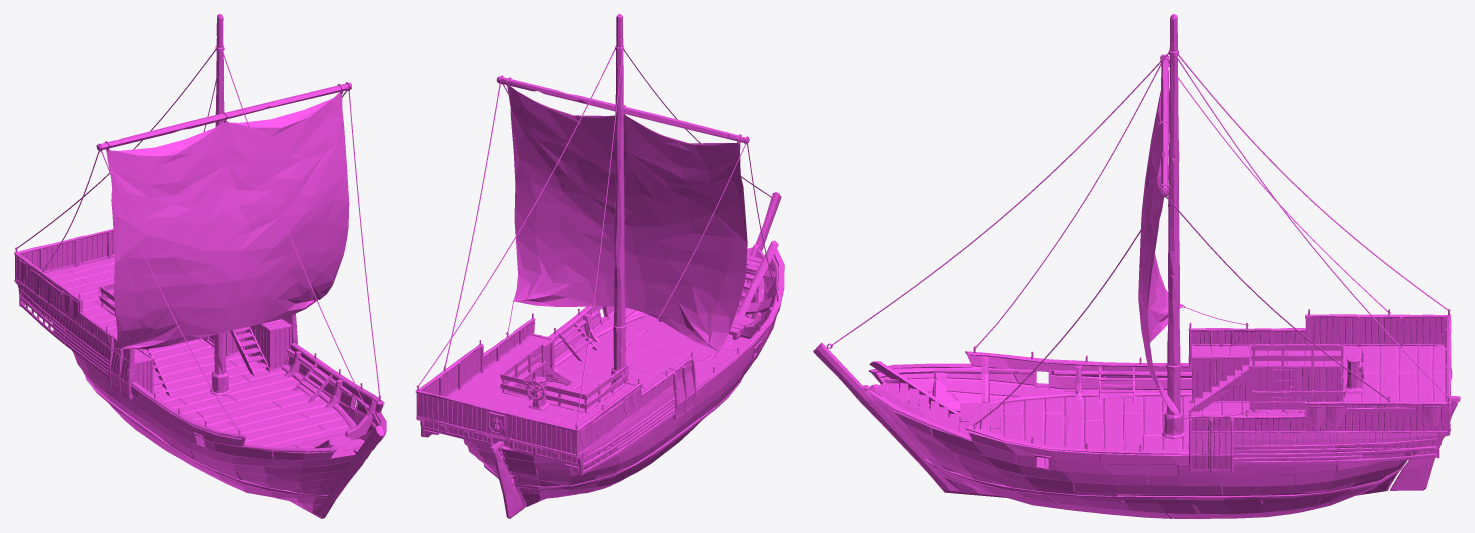
The model's file is SM_Ship_Big_Fantasy.fbx.
The picture shows the model from 3 angles, left to right: view 1: azimuth 30°, elevation 25°; view 2: azimuth 150°, elevation 25°; view 3: azimuth 270°, elevation 25°; orthographic projection. The views are drawn at different scales.
Parts seen in each view (by area): view 1: SM_Ship_Big_Fantasy_Base; view 2: SM_Ship_Big_Fantasy_Base, SM_Ship_Big_Fantasy_Rudder; view 3: SM_Ship_Big_Fantasy_Base, SM_Ship_Big_Fantasy_Rudder.
Boxes of the visible parts, <box> form: SM_Ship_Big_Fantasy_Base: <box>14,14,386,518</box>; SM_Ship_Big_Fantasy_Base: <box>415,14,784,507</box>; SM_Ship_Big_Fantasy_Rudder: <box>492,449,524,518</box>; SM_Ship_Big_Fantasy_Base: <box>813,14,1460,518</box>; SM_Ship_Big_Fantasy_Rudder: <box>1390,401,1458,490</box>.
Bounding box in the file's own units: 14.03 × 23.37 × 27.89.
